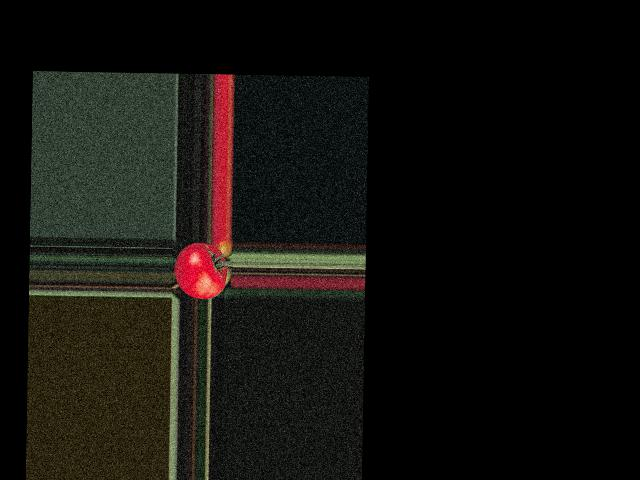tomato: (173, 243, 226, 299)
